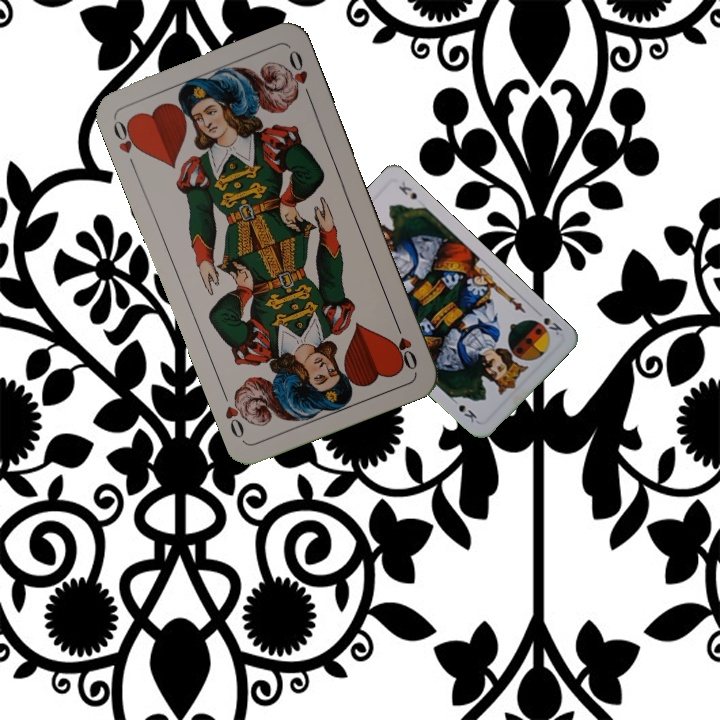HO: (109, 115, 145, 172), (390, 316, 420, 373)
SK: (531, 306, 565, 338)
